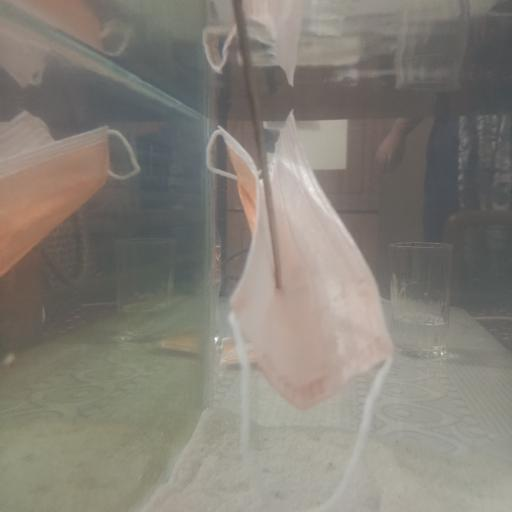mask: (199, 112, 401, 512), (2, 102, 140, 291)
